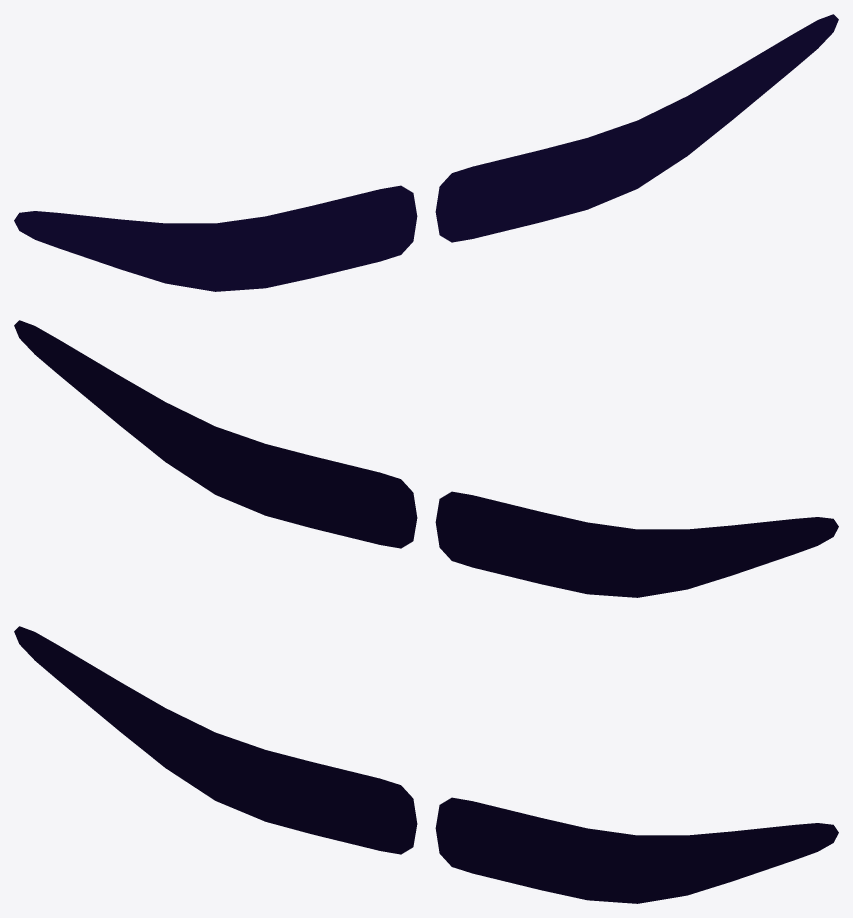
The model's file is bigote.glb.
The picture shows the model from 3 angles, top to bottom: view 1: azimuth 30°, elevation 25°; view 2: azimuth 150°, elevation 25°; view 3: azimuth 330°, elevation 25°; orthographic projection.
Parts seen in each view (by area): view 1: Plane.001, Plane; view 2: Plane.001, Plane; view 3: Plane, Plane.001.
Boxes of the visible parts, x1,y1,x2,y2 form: Plane.001: (14, 185, 417, 291); Plane: (435, 14, 838, 242); Plane.001: (435, 491, 838, 597); Plane: (14, 320, 417, 548); Plane: (435, 797, 838, 903); Plane.001: (14, 626, 417, 854).
Size of the model in its own units: 4.06 by 0.6435 by 1.77e-07.
